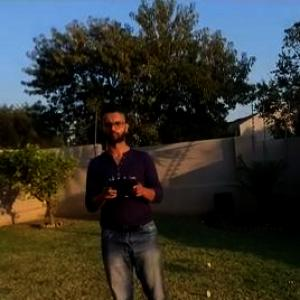follow: (77, 94, 174, 299)
